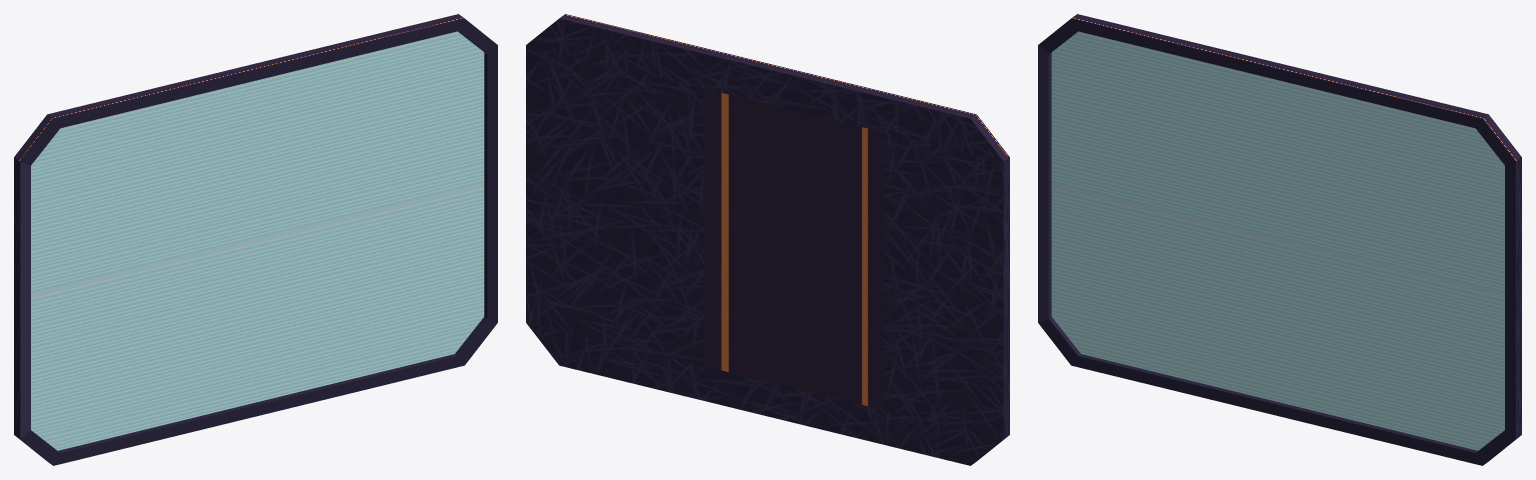
The model's file is leaderboard-art.glb.
3 views of the same model, side by side, from view 1: azimuth 30°, elevation 25°; view 2: azimuth 150°, elevation 25°; view 3: azimuth 330°, elevation 25° (orthographic).
Visible parts, largest first — view 1: Leaderboard_Art; view 2: Leaderboard_Art; view 3: Leaderboard_Art.
Part boxes in pixels (x1,y1,x2,y2): Leaderboard_Art: [14, 14, 497, 465]; Leaderboard_Art: [526, 14, 1009, 465]; Leaderboard_Art: [1038, 14, 1521, 465].
Size of the model in its own units: 3.15 by 2.18 by 0.0699.
2 materials, 2 textured.
